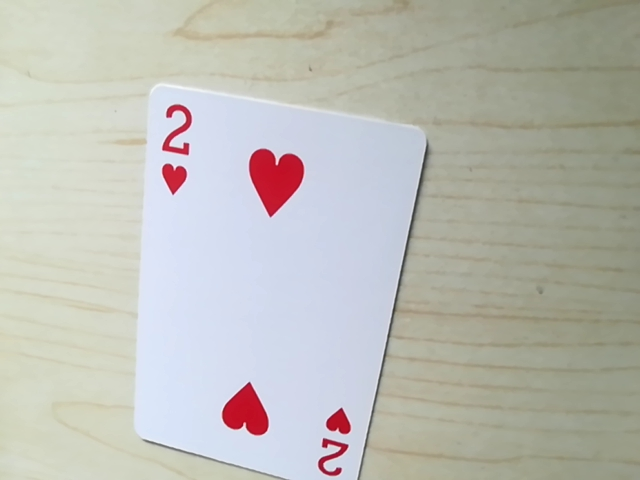hx 2: (151, 90, 201, 188), (309, 406, 356, 480)
